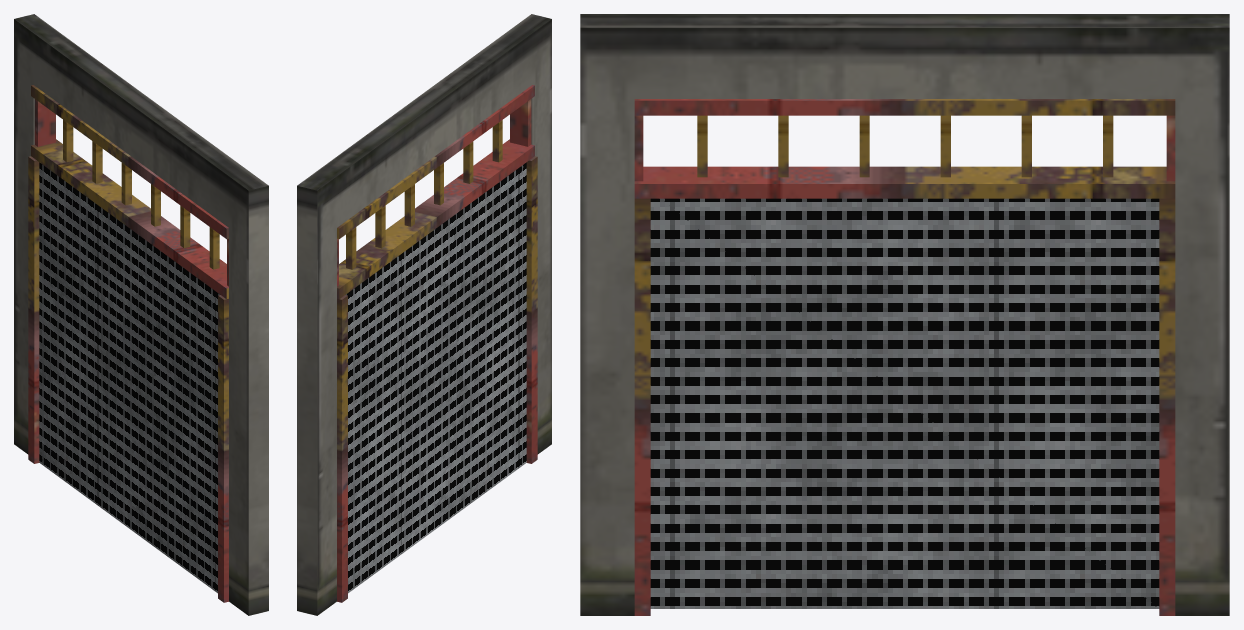
File: SM_WALL_S_13.fbx
The picture shows the model from 3 angles, left to right: view 1: azimuth 30°, elevation 25°; view 2: azimuth 150°, elevation 25°; view 3: azimuth 270°, elevation 25°; orthographic projection. The views are drawn at different scales.
Visible parts, largest first — view 1: SM_WALL_S_13; view 2: SM_WALL_S_13; view 3: SM_WALL_S_13.
Boxes of the visible parts, <box> form: SM_WALL_S_13: <box>14,14,268,615</box>; SM_WALL_S_13: <box>297,14,551,615</box>; SM_WALL_S_13: <box>580,14,1229,615</box>.
Bounding box in the file's own units: 0.2751 × 4 × 4.
